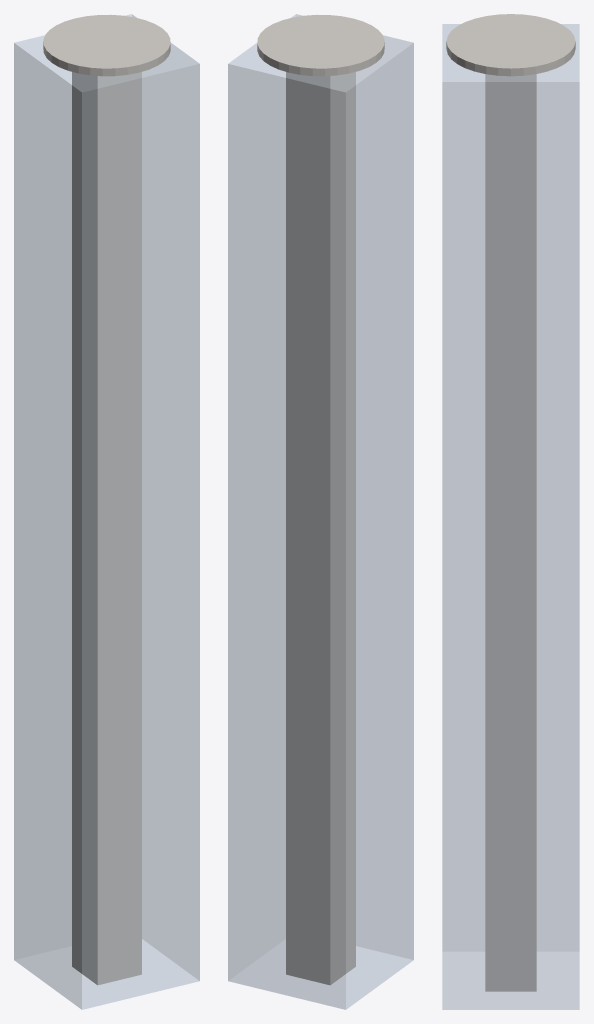
Rendered from roppongi_hills.glb.
3 renders of one model, left to right at view 1: azimuth 30°, elevation 25°; view 2: azimuth 150°, elevation 25°; view 3: azimuth 270°, elevation 25°, orthographic.
Parts seen in each view (by area): view 1: Cube, Cube.001, Cylinder; view 2: Cube, Cube.001, Cylinder; view 3: Cube, Cube.001, Cylinder.
Part boxes in pixels (<box>): Cube: <box>14,14,199,1009</box>; Cube.001: <box>72,72,141,984</box>; Cylinder: <box>43,14,170,76</box>; Cube: <box>228,14,413,1009</box>; Cube.001: <box>286,72,355,984</box>; Cylinder: <box>257,14,384,76</box>; Cube: <box>442,24,579,1009</box>; Cube.001: <box>485,74,536,991</box>; Cylinder: <box>446,14,575,76</box>.
Size of the model in its own units: 32 by 241 by 32.
